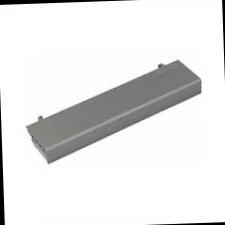battery: (13, 54, 210, 182)
